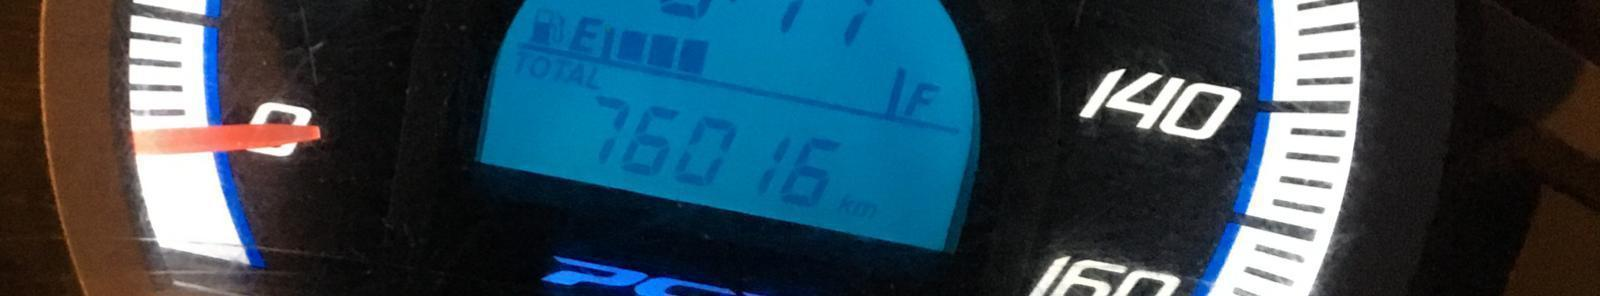0: (676, 113, 737, 184)
1: (757, 128, 788, 193)
6: (782, 128, 837, 206), (621, 100, 670, 177)
7: (593, 93, 631, 163)
X: (907, 76, 943, 118), (567, 11, 601, 52), (512, 45, 532, 75), (552, 53, 571, 82), (585, 65, 604, 94), (529, 55, 551, 80), (852, 200, 878, 220), (567, 61, 583, 89), (839, 192, 852, 213)
odometer: (468, 0, 989, 259)
